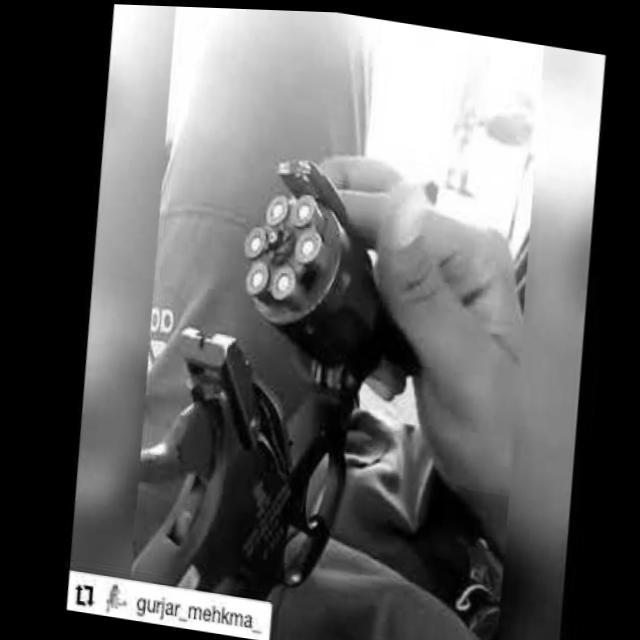weapon: (98, 121, 493, 640)
